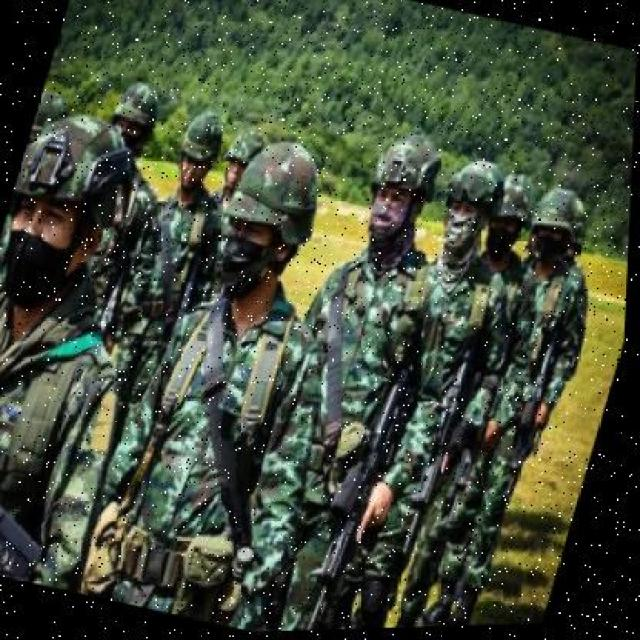MIL_Pax: (259, 129, 487, 594), (130, 168, 376, 594), (362, 146, 566, 632), (62, 79, 266, 499), (0, 85, 168, 583), (415, 177, 590, 629), (459, 185, 633, 621), (361, 171, 547, 520), (0, 72, 78, 469), (206, 106, 274, 223), (101, 59, 176, 153)
